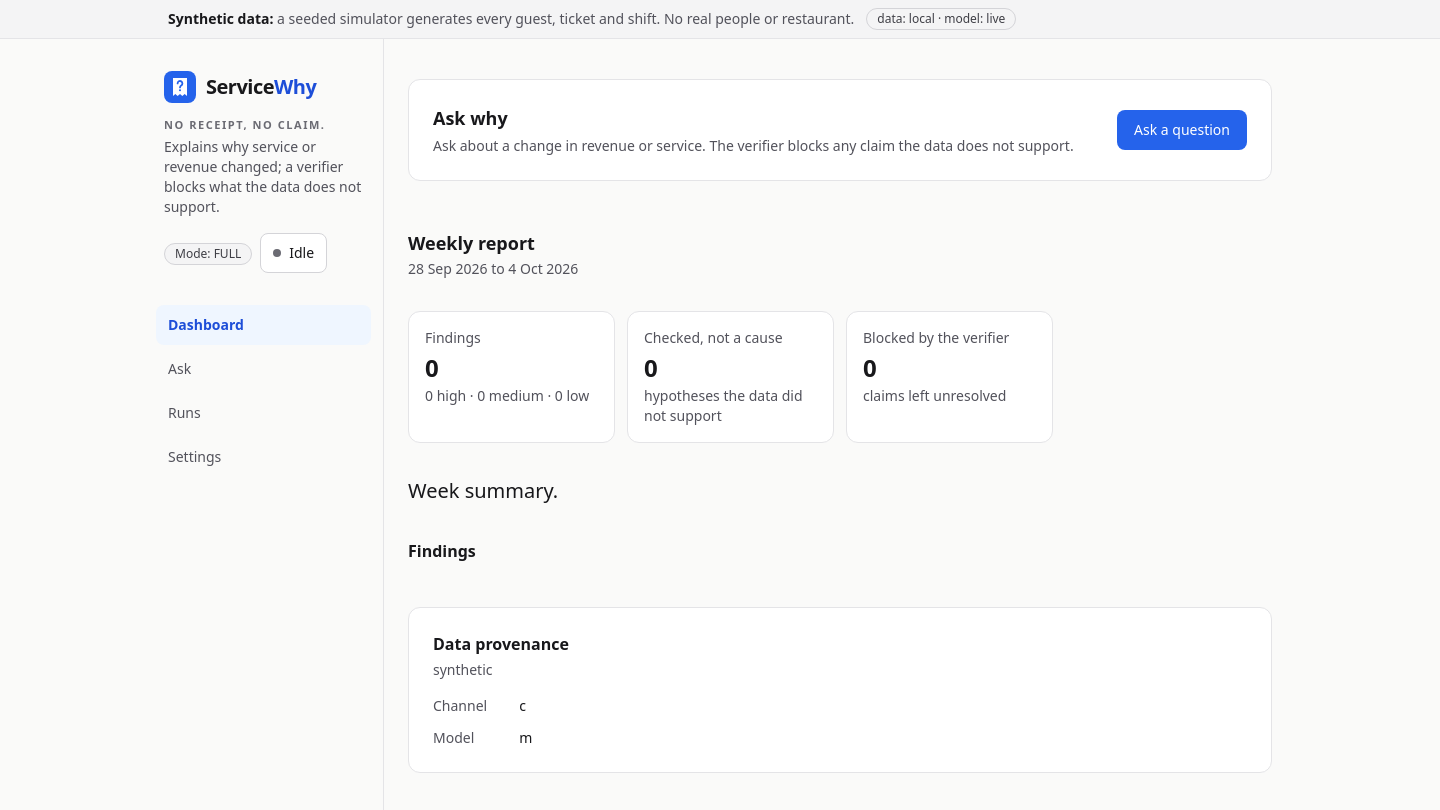
it: the panel opens from the pill, closes with Escape and returns focus to the pill
Click the button with test id "activity-pill" at (294, 253), box [260,233,327,273]
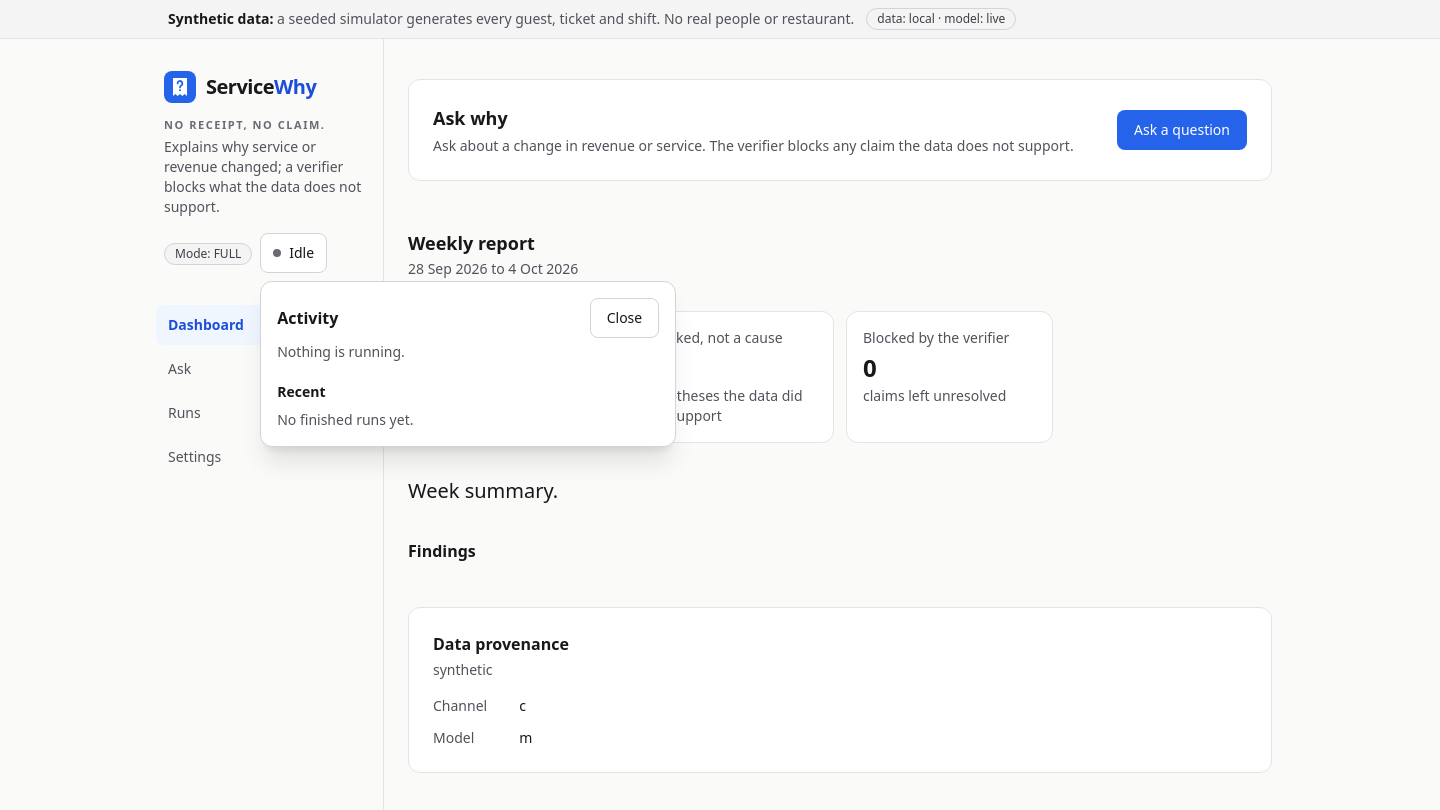
Check: the text "Nothing is running." is shown, box [277,342,405,361]
Press Escape
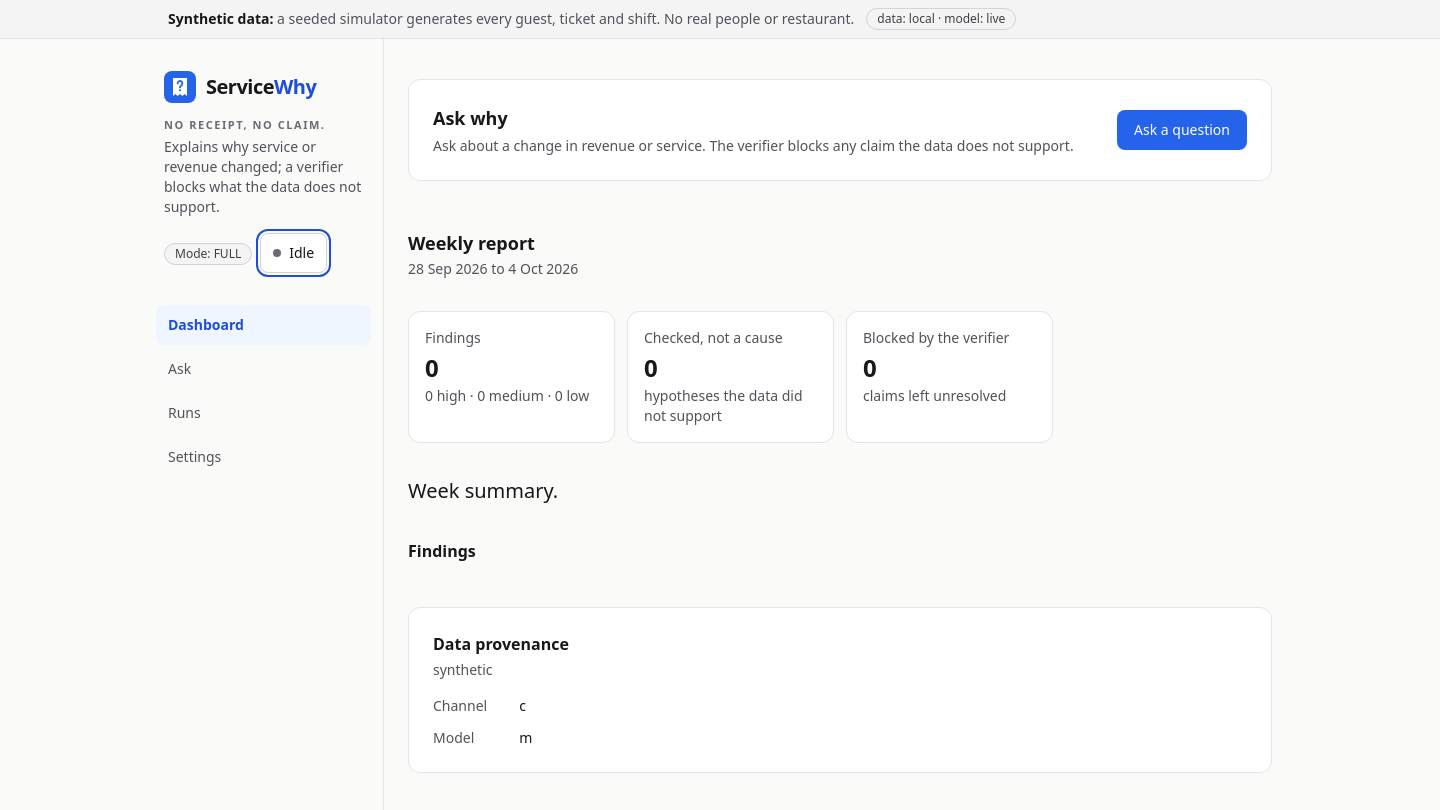
Check: the dialog is gone
